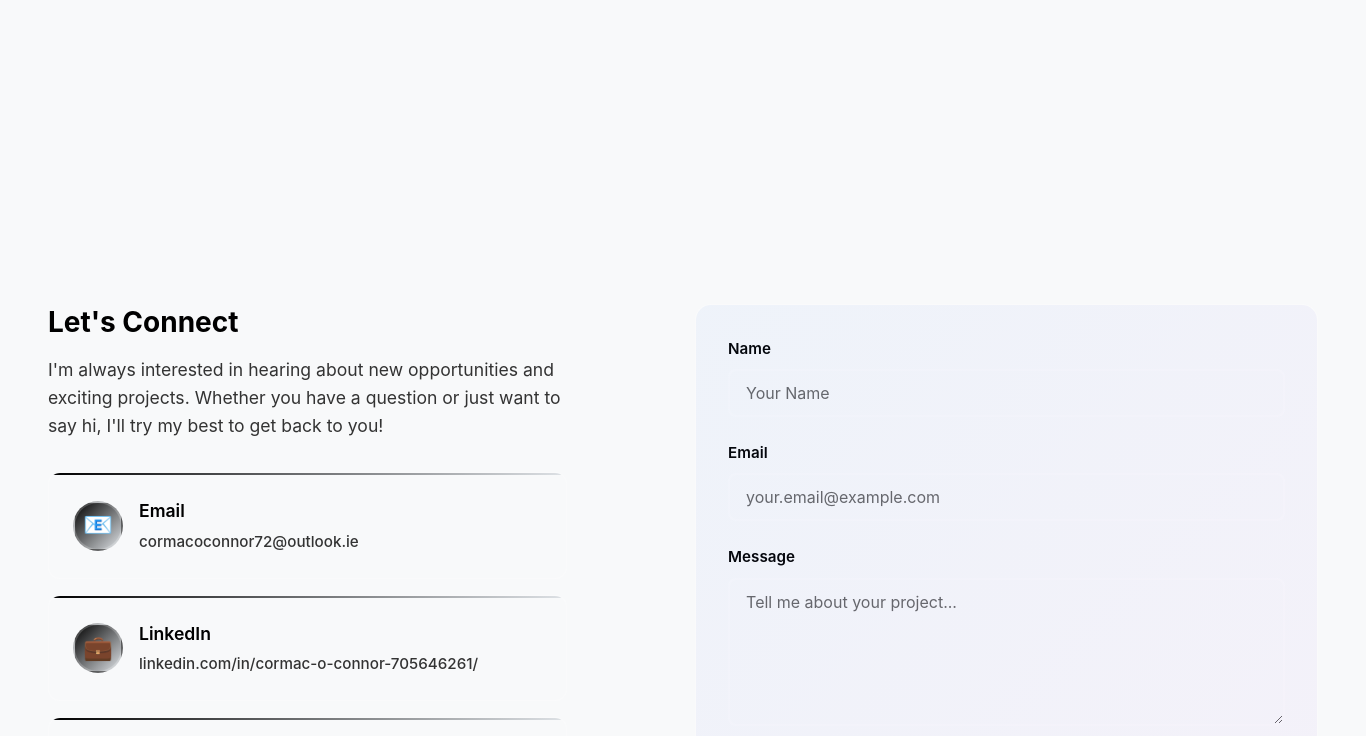
Contact Component › shows success message after form submission
// Fill out valid form
Type "John Doe" into the field labelled "Name" at (1007, 393), box [728, 369, 1285, 417]
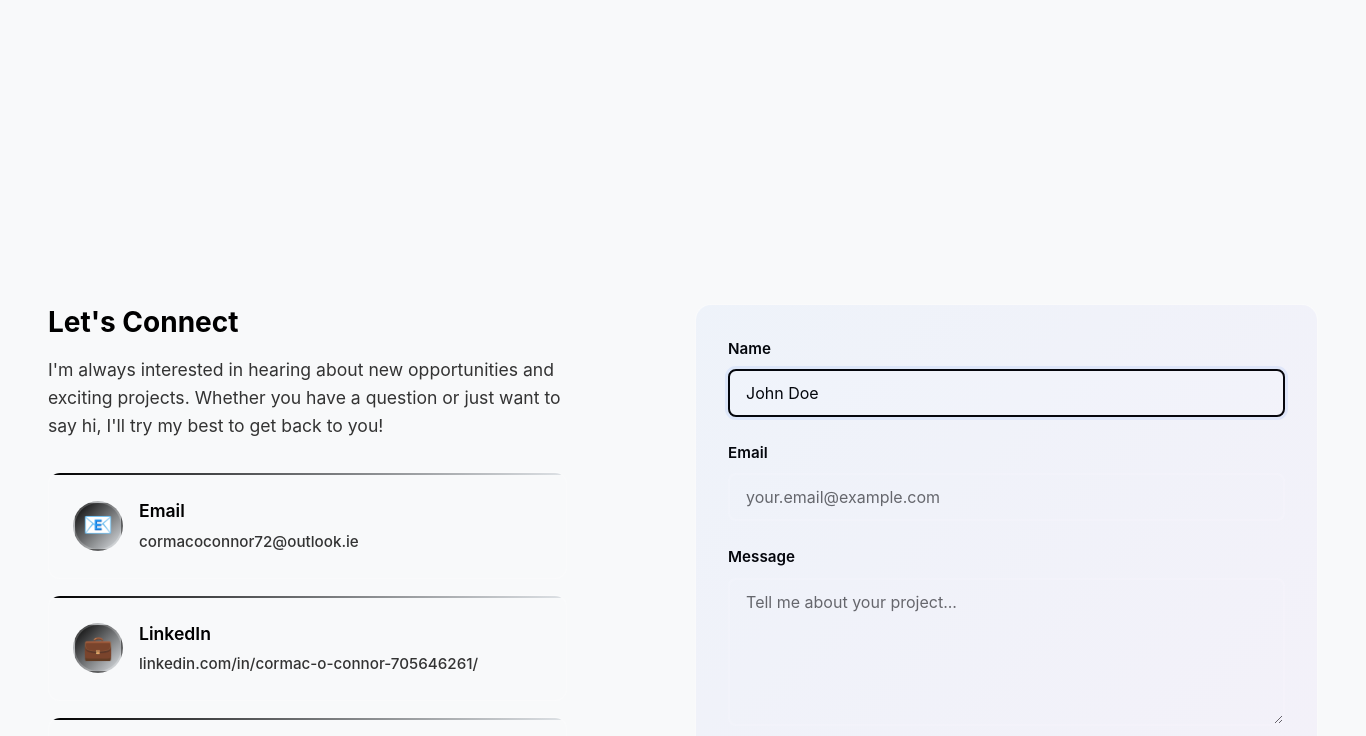
Type "john@example.com" into the field labelled "Email" at (1007, 497), box [728, 473, 1285, 521]
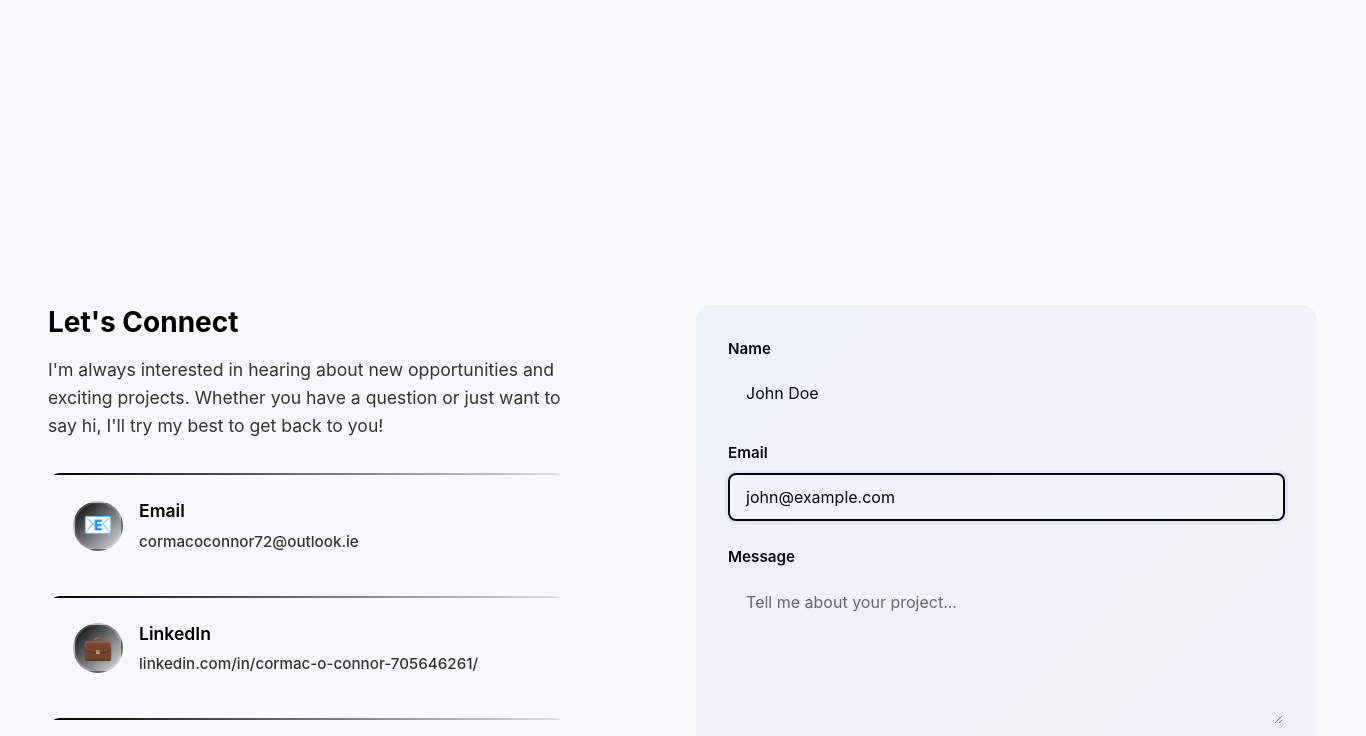
Type "Test message" into the text box labelled "Message" at (1007, 652), box [728, 578, 1285, 726]
(page scrolled)
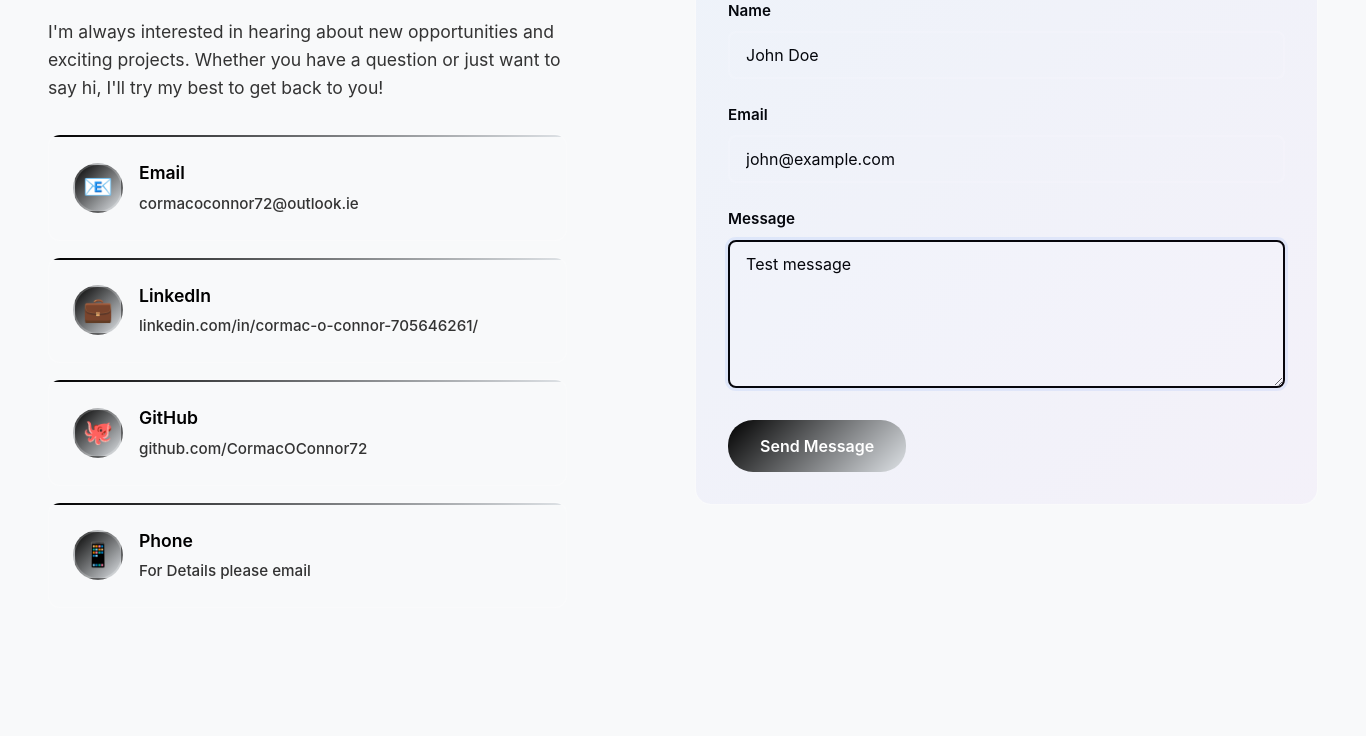
Click the button "Send Message" at (817, 446), box [728, 420, 906, 472]
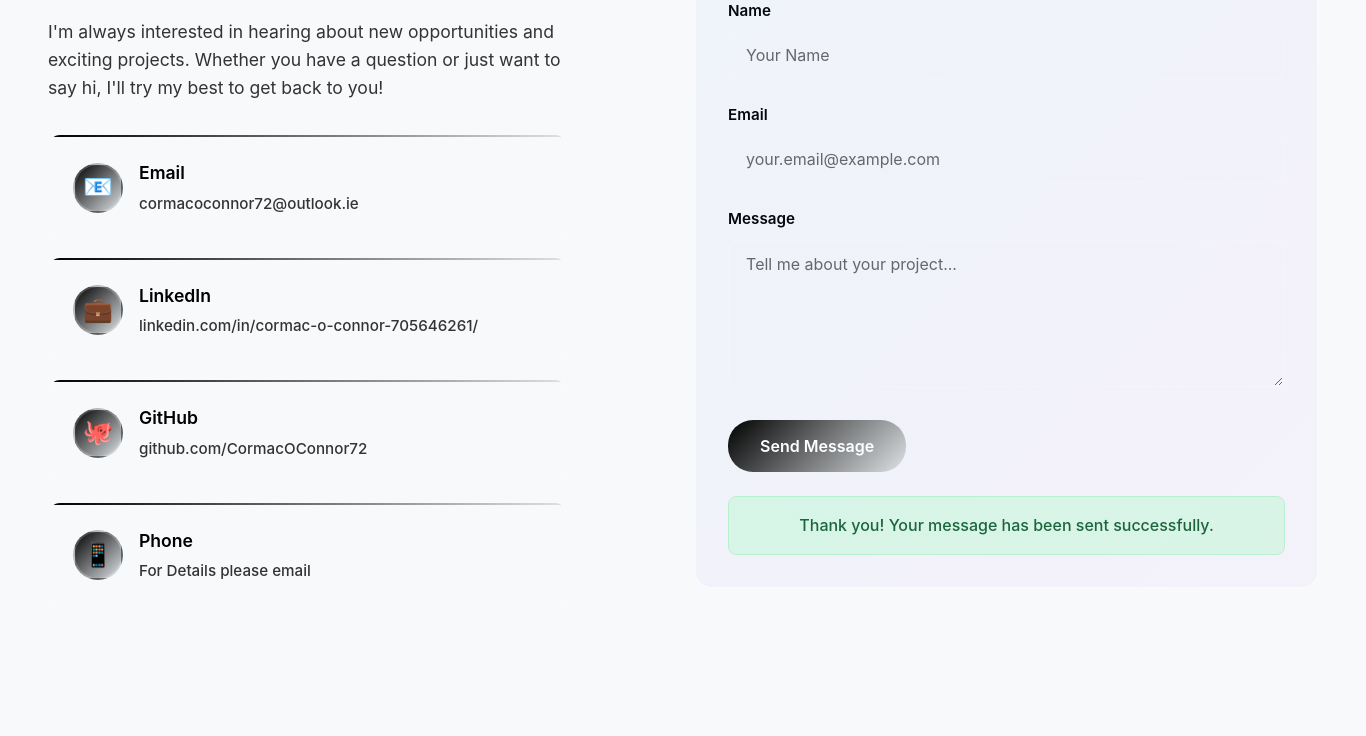
Expected: the text "Thank you! Your message has been sent successfully." is shown, [728, 496, 1285, 555]
